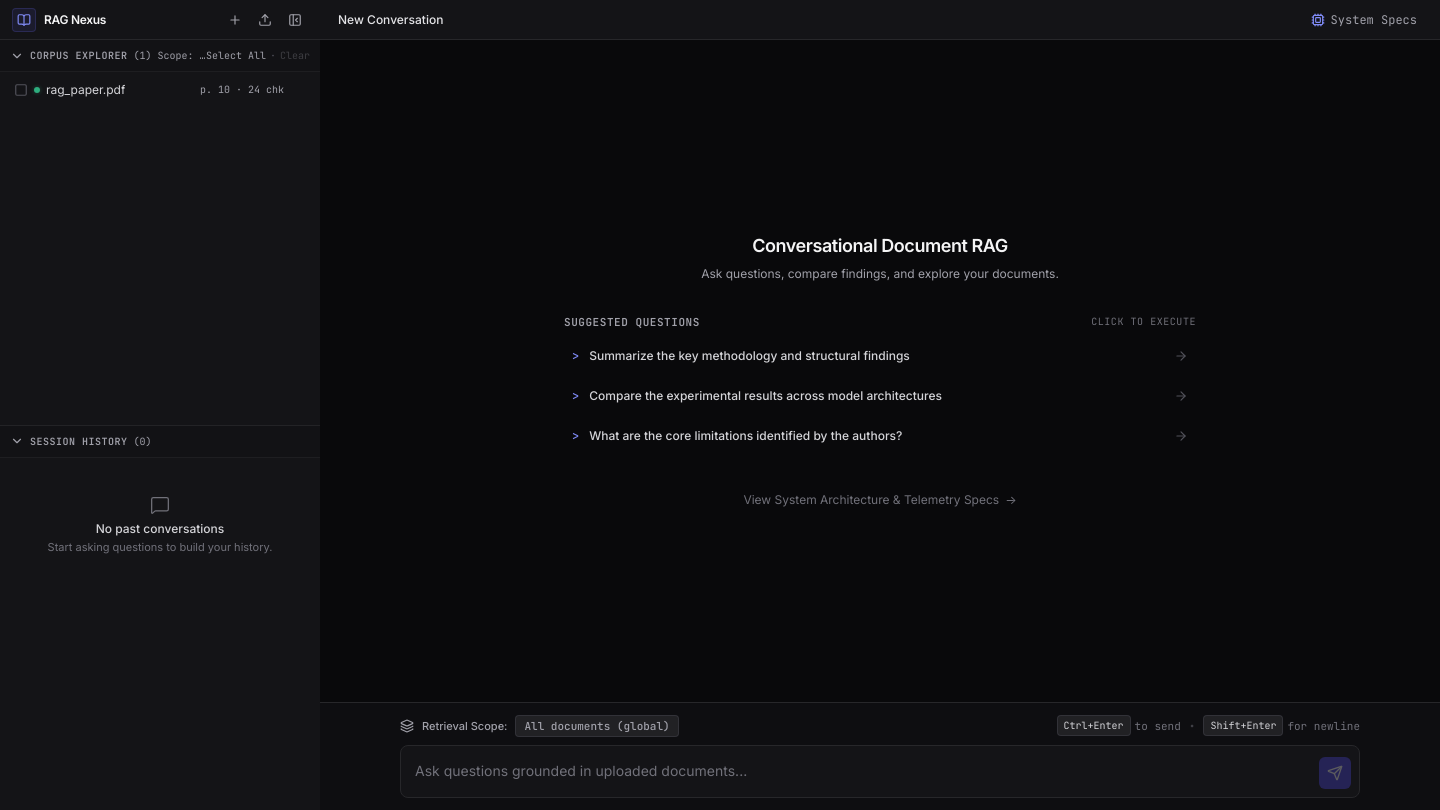
it: App Integration (Document Management & Conversation Sessions) › sends scoped chat question through ChatContainer and transmits documentIds
Expected: the text "rag_paper.pdf" is shown, [46,82,125,98]
Type "Explain hybrid retrieval" into the text box with placeholder "Ask questions grounded in uploaded documents..." at coordinates (860, 772), box [409,754,1311,789]
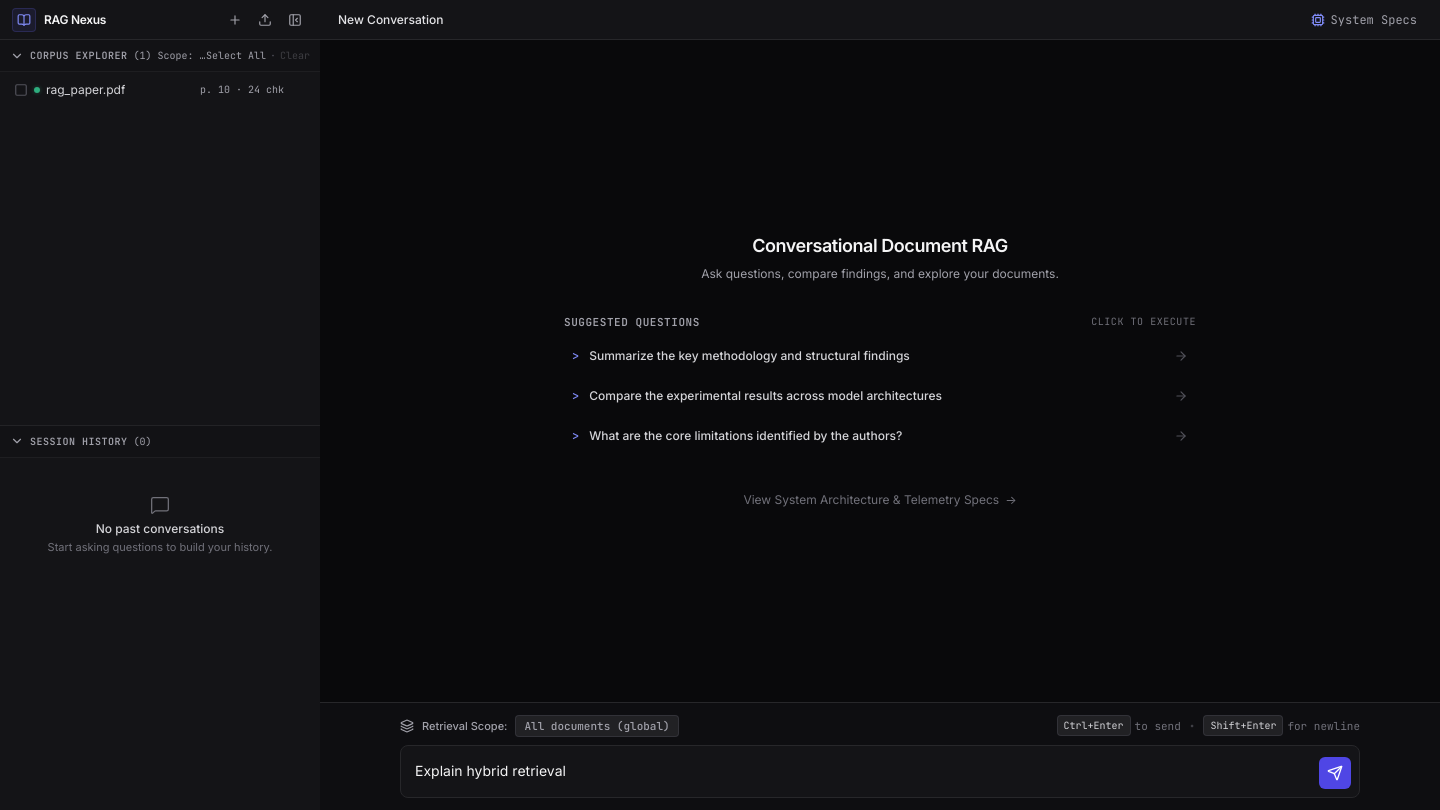
Press Enter in the text box with placeholder "Ask questions grounded in uploaded documents...", box [409,754,1311,789]
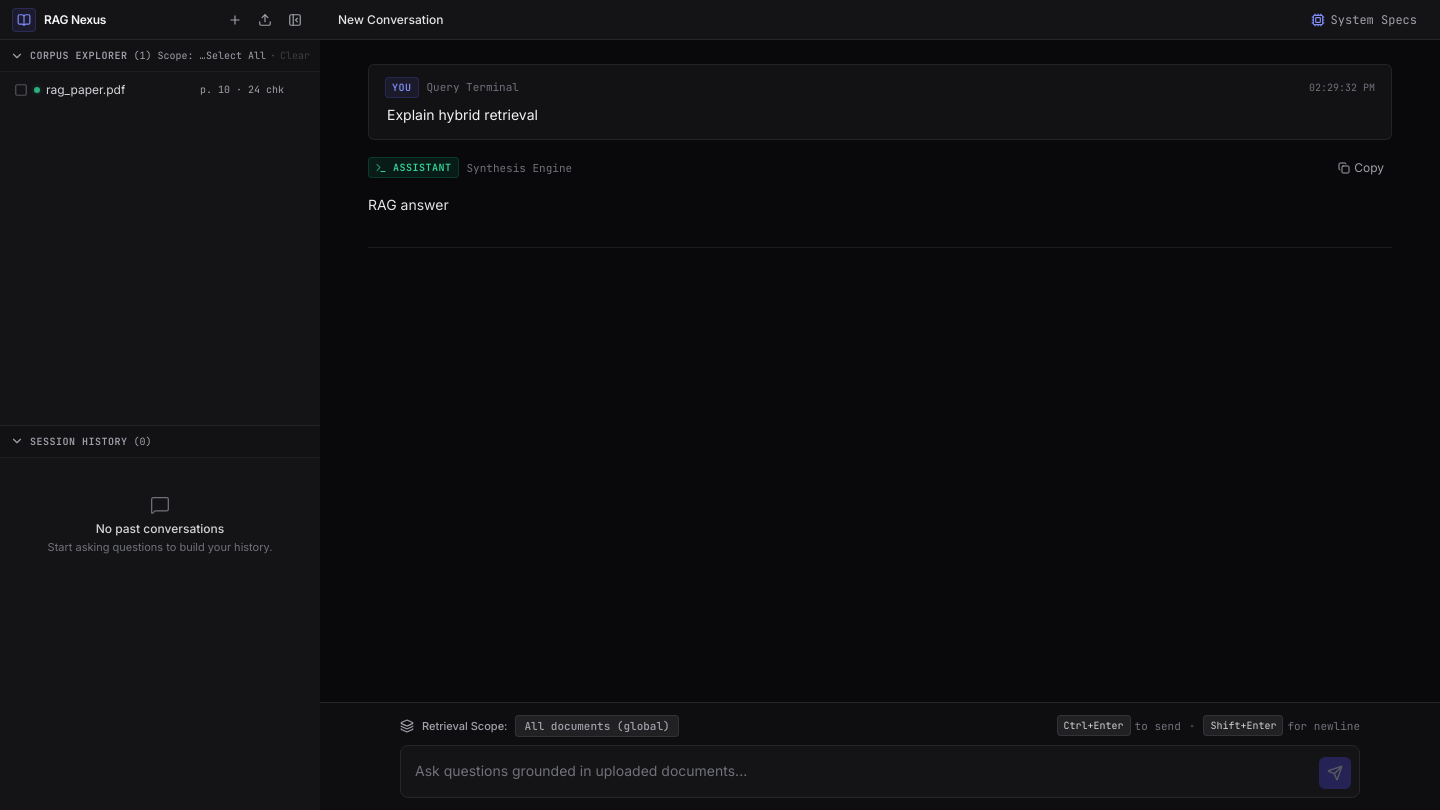
Expected: the text "Explain hybrid retrieval" is shown, [387,106,538,123]
